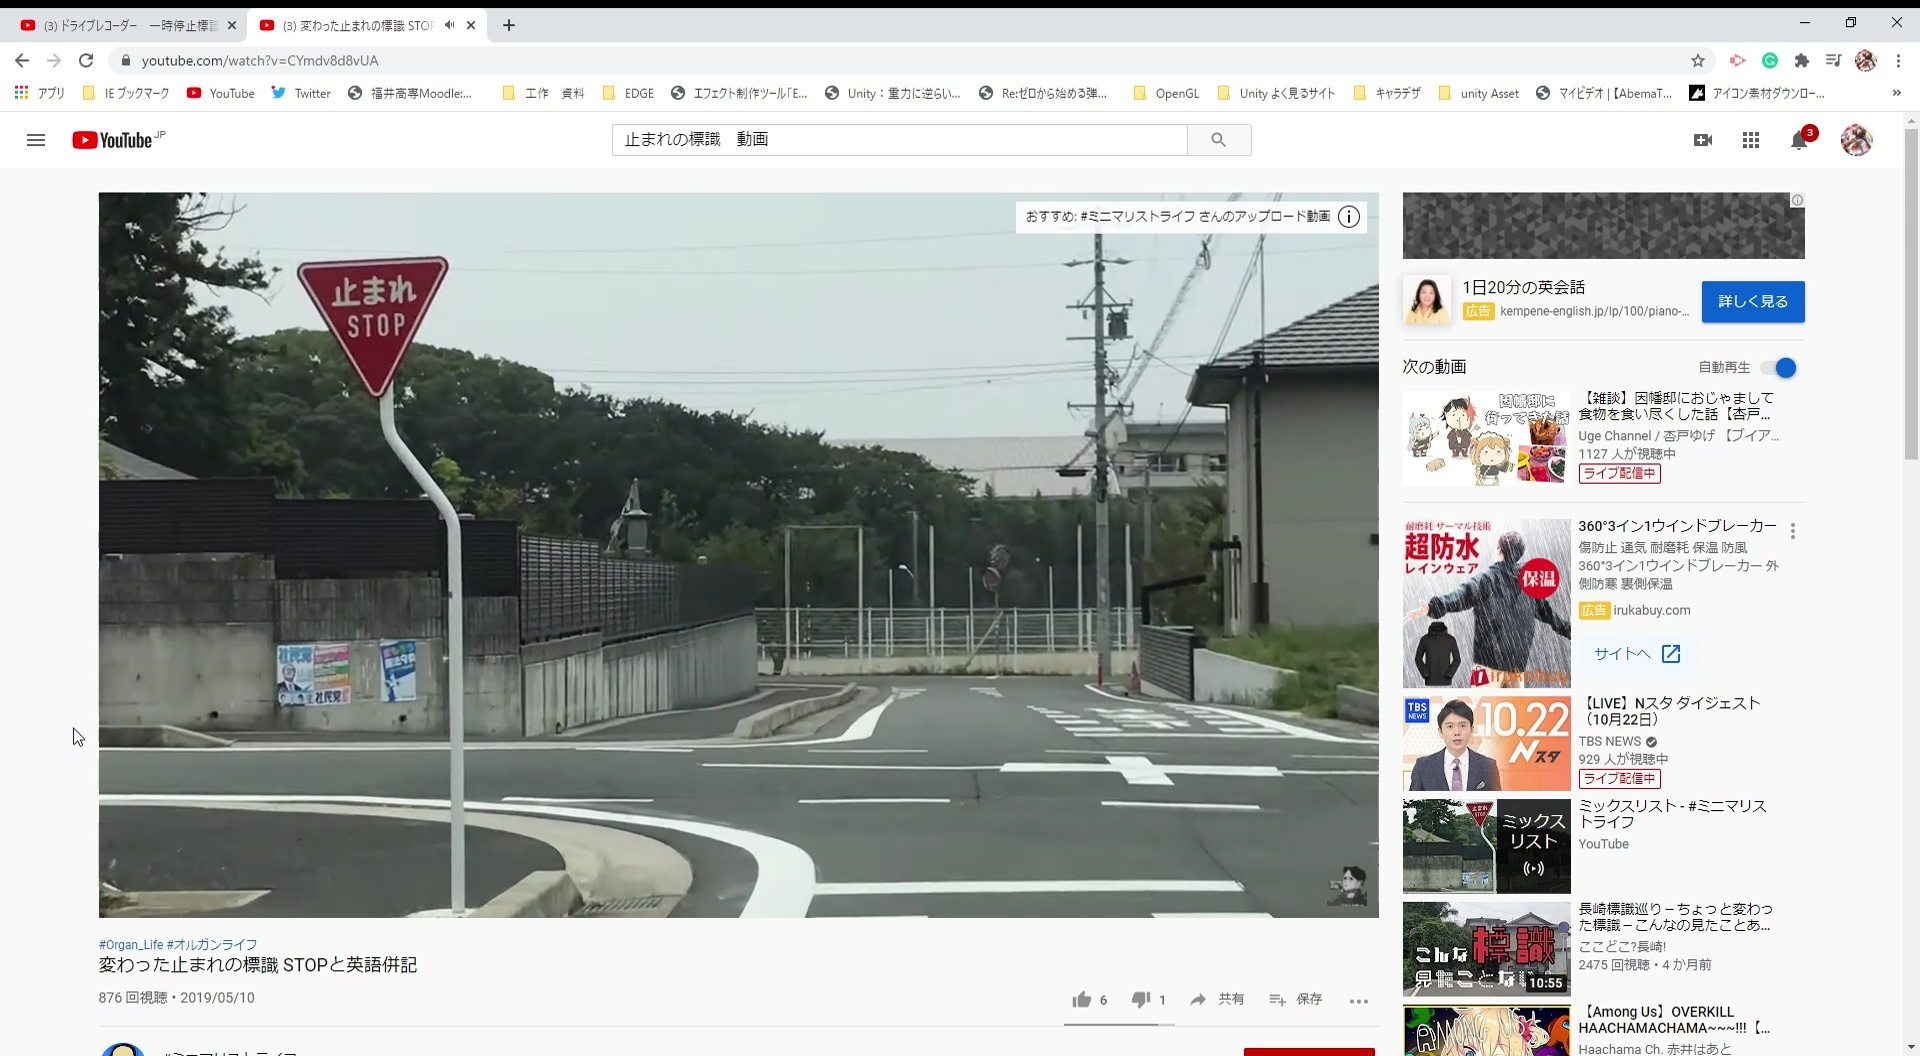Regulatory_sign_triangle: (291, 254, 465, 395)
